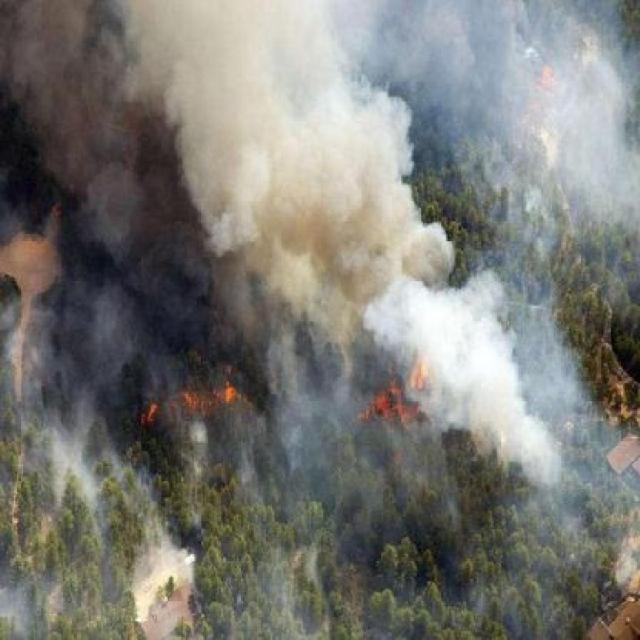Fire: (364, 337, 441, 454), (133, 356, 240, 423)
Smoke: (0, 0, 640, 357), (445, 356, 579, 509), (248, 362, 364, 495)
